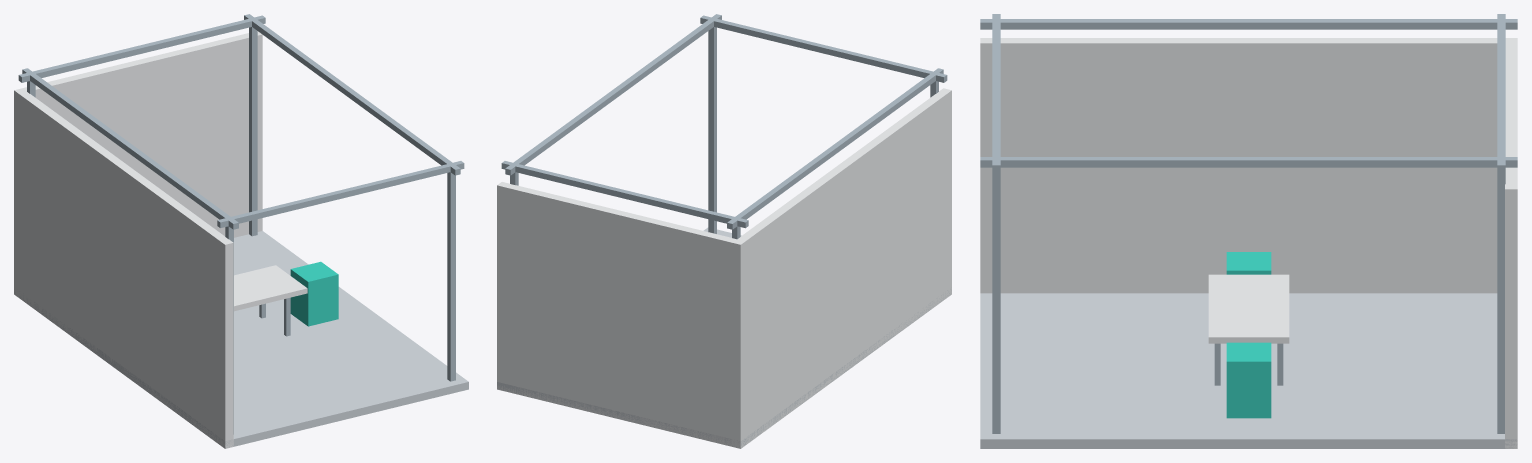
3 views of the same model, side by side, from view 1: azimuth 30°, elevation 25°; view 2: azimuth 150°, elevation 25°; view 3: azimuth 270°, elevation 25° (orthographic). The views are drawn at different scales.
Parts seen in each view (by area): view 1: Exhibition Booth Concept; view 2: Exhibition Booth Concept; view 3: Exhibition Booth Concept.
Part boxes in pixels (left/top/right/bottom): Exhibition Booth Concept: left=14, top=14, right=468, bottom=448; Exhibition Booth Concept: left=497, top=14, right=951, bottom=448; Exhibition Booth Concept: left=980, top=14, right=1517, bottom=448.
Size of the model in its own units: 4 by 3.49 by 6.
